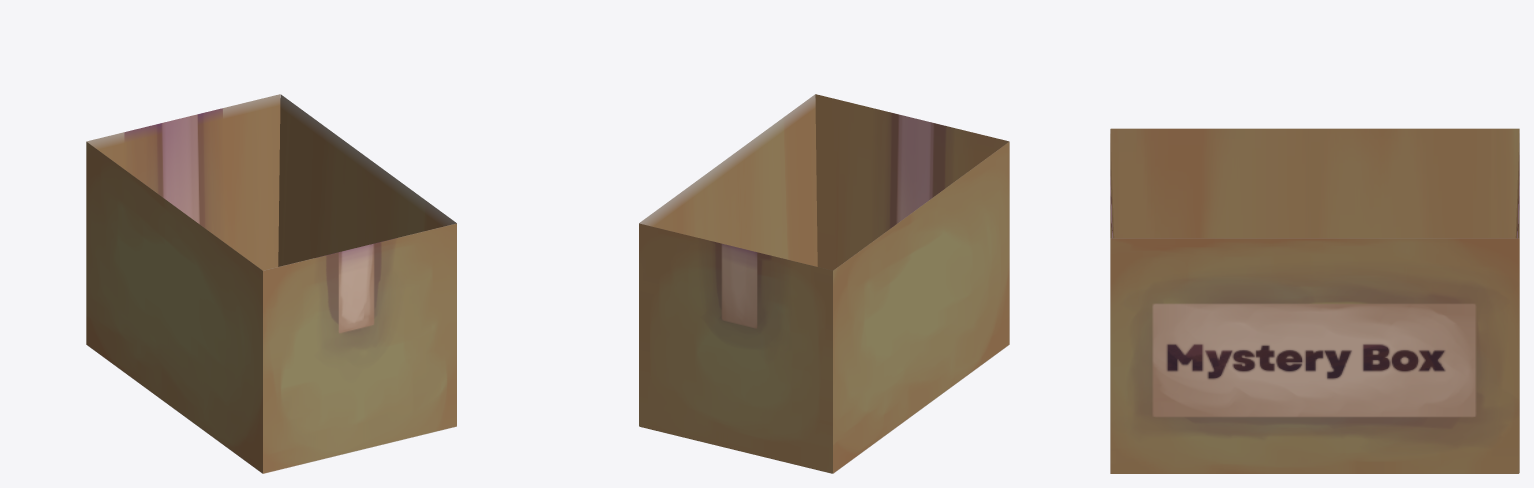
The model's file is NotFracturedBox.fbx.
The picture shows the model from 3 angles, left to right: view 1: azimuth 30°, elevation 25°; view 2: azimuth 150°, elevation 25°; view 3: azimuth 270°, elevation 25°; orthographic projection. The views are drawn at different scales.
Visible parts, largest first — view 1: Box.001; view 2: Box.001; view 3: Box.001.
Part boxes in pixels (x1,y1,x2,y2): Box.001: (86, 94, 456, 473); Box.001: (639, 94, 1009, 473); Box.001: (1110, 128, 1519, 473).
Size of the model in its own units: 354 by 263 by 315.
